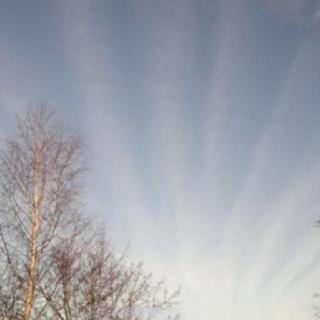Cirrus: (92, 0, 320, 268)
